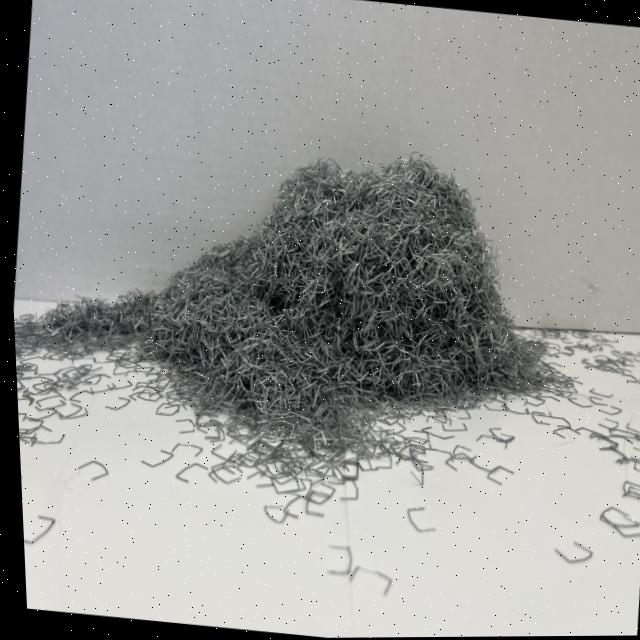staples: (5, 108, 589, 453)
